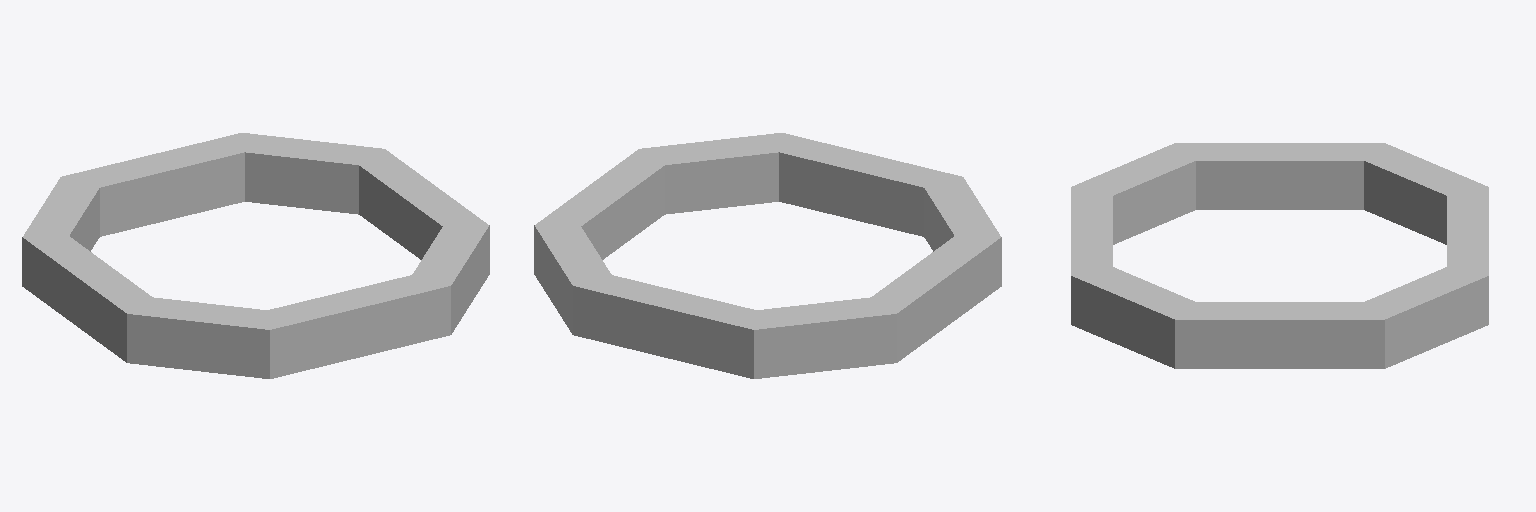
File: pylonCrystal.obj
The picture shows the model from 3 angles: view 1: azimuth 30°, elevation 25°; view 2: azimuth 150°, elevation 25°; view 3: azimuth 270°, elevation 25°; orthographic projection.
Parts seen in each view (by area): view 1: pylonRing; view 2: pylonRing; view 3: pylonRing.
Boxes of the visible parts, x1=… form: pylonRing: x1=22, y1=133, x2=489, y2=378; pylonRing: x1=534, y1=133, x2=1001, y2=378; pylonRing: x1=1071, y1=143, x2=1488, y2=368.
Size of the model in its own units: 0.7872 by 0.1024 by 0.7872.